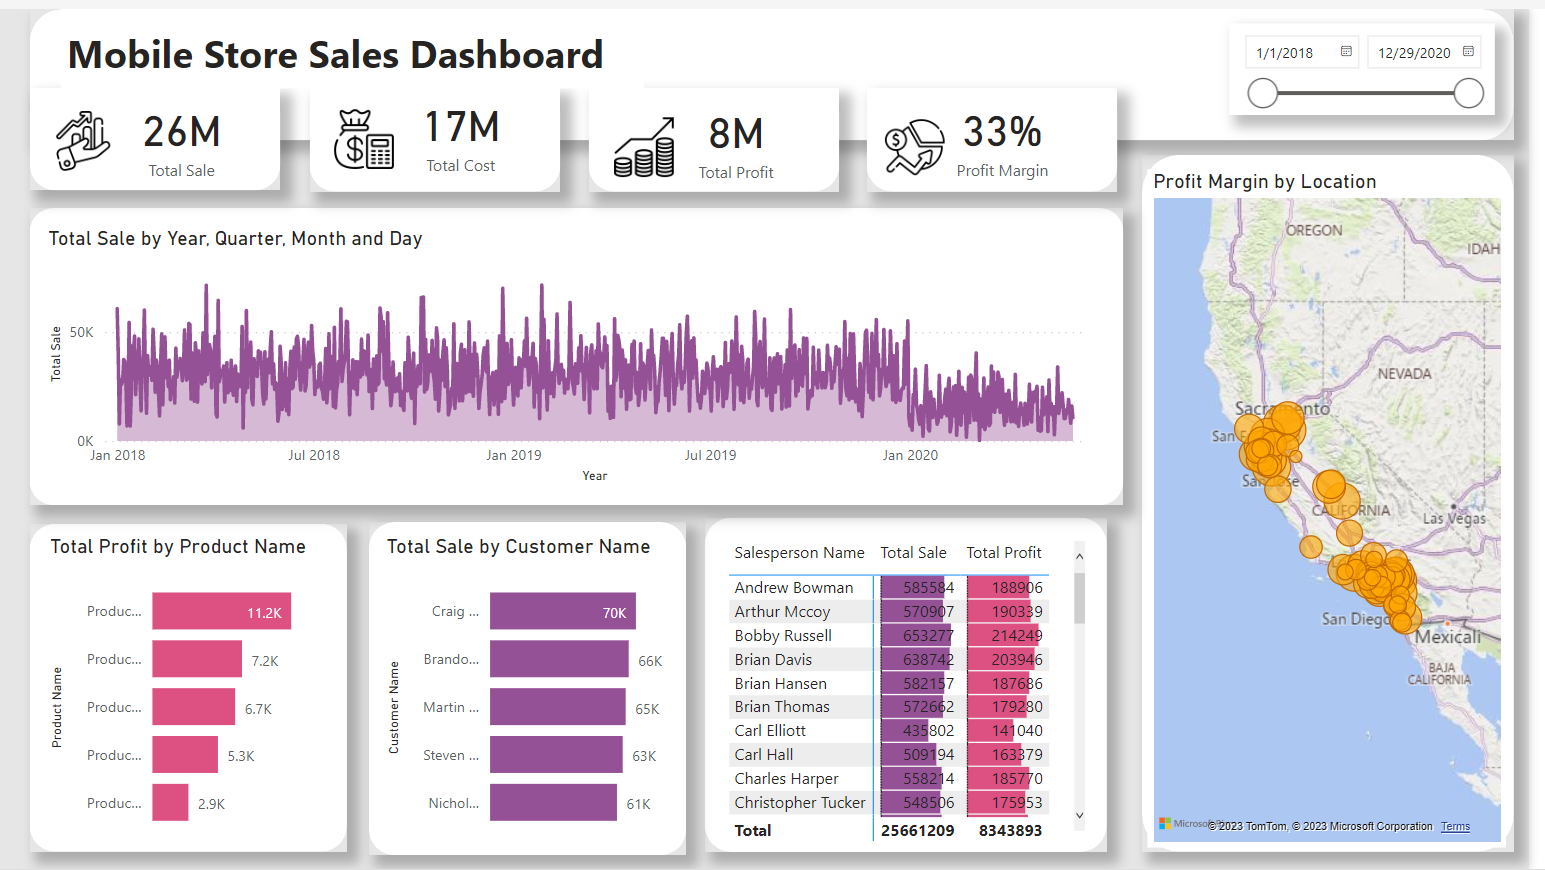

Layout of this report page (visuals, bound fields, positions):
{"tool":"powerbi","page":{"name":"Page 1","canvas":[1280,720],"ordinal":0},"visuals":[{"type":"shape","box":[25.3,0,1242.2,109.7],"z":0},{"type":"shape","box":[591,425.7,336.5,279.8],"z":1000},{"type":"shape","box":[25.3,430.6,265.3,275],"z":2000},{"type":"shape","box":[956.4,121.8,311.2,583.7],"z":3000},{"type":"shape","box":[25.7,166.2,915.6,249.4],"z":4000},{"type":"shape","box":[25.3,66.3,210,85.6],"z":5000},{"type":"shape","box":[259.6,65.9,210.1,86.5],"z":6000},{"type":"shape","box":[493.6,65.9,210.1,86.5],"z":7000},{"type":"shape","box":[726.5,65.9,210.1,86.5],"z":8000},{"type":"shape","box":[309.9,429.3,265.3,278.6],"z":9000},{"type":"card","fields":{"Values":["Key Measures.Total Sale"]},"box":[70,64.5,164.8,85.2],"z":10000},{"type":"card","fields":{"Values":["Key Measures.Total Cost"]},"box":[303.5,60.4,164.8,85.2],"z":11000},{"type":"card","fields":{"Values":["Key Measures.Total Profit"]},"box":[534.2,65.9,164.8,85.2],"z":12000},{"type":"card","fields":{"Values":["Key Measures.Profit Margin"]},"box":[756.7,64.5,164.8,85.2],"z":13000},{"type":"areaChart","fields":{"Category":["Dates.Date.Variation.Date Hierarchy.Year","Dates.Date.Variation.Date Hierarchy.Quarter","Dates.Date.Variation.Date Hierarchy.Month","Dates.Date.Variation.Date Hierarchy.Day"],"Y":["Key Measures.Total Sale"]},"box":[36.2,182.1,891.3,219.5],"z":14000},{"type":"clusteredBarChart","fields":{"Y":["Key Measures.Total Profit"],"Category":["Products.Product Name"]},"box":[37.4,440.2,241.2,261.7],"z":15000},{"type":"clusteredBarChart","fields":{"Category":["Customers.Customer Name"],"Y":["Key Measures.Total Sale"]},"box":[319.6,440.2,244.8,261.7],"z":16000},{"type":"pivotTable","fields":{"Rows":["Sales People.Salesperson Name"],"Values":["Key Measures.Total Sale","Key Measures.Total Profit"]},"box":[605.4,440.2,308.7,261.7],"z":17000},{"type":"map","title":"Profit Margin by Location","fields":{"Size":["Key Measures.Profit Margin"],"Y":["Locations.Latitude"],"X":["Locations.Longitude"]},"box":[961.2,133.9,300.3,568],"z":18000},{"type":"textbox","box":[51.9,9.6,487.2,56.7],"z":19000},{"type":"slicer","fields":{"Values":["Dates.Date"]},"box":[1029.9,12.1,221.9,77.2],"z":20000},{"type":"image","box":[736.1,85.2,60.4,60.4],"z":21000},{"type":"image","box":[509.5,85.2,60,60],"z":22000},{"type":"image","box":[274.7,78.3,60.4,60.4],"z":23000},{"type":"image","box":[39.8,79.7,60.4,60.4],"z":24000}]}

Visuals, with their boxes in screenshot pixels (x1, y1, x2, y2), scaled from the page's 1280x720 canvas onto the 1545x870 screenshot:
shape: crop(31, 0, 1530, 133)
shape: crop(713, 514, 1120, 852)
shape: crop(31, 520, 351, 853)
shape: crop(1154, 147, 1530, 852)
shape: crop(31, 201, 1136, 502)
shape: crop(31, 80, 284, 184)
shape: crop(313, 80, 567, 184)
shape: crop(596, 80, 849, 184)
shape: crop(877, 80, 1131, 184)
shape: crop(374, 519, 694, 855)
card - Key Measures.Total Sale: crop(84, 78, 283, 181)
card - Key Measures.Total Cost: crop(366, 73, 565, 176)
card - Key Measures.Total Profit: crop(645, 80, 844, 183)
card - Key Measures.Profit Margin: crop(913, 78, 1112, 181)
areaChart - Dates.Date.Variation.Date Hierarchy.Year x Dates.Date.Variation.Date Hierarchy.Quarter: crop(44, 220, 1120, 485)
clusteredBarChart - Key Measures.Total Profit x Products.Product Name: crop(45, 532, 336, 848)
clusteredBarChart - Customers.Customer Name x Key Measures.Total Sale: crop(386, 532, 681, 848)
pivotTable - Sales People.Salesperson Name x Key Measures.Total Sale: crop(731, 532, 1103, 848)
"Profit Margin by Location" map: crop(1160, 162, 1523, 848)
textbox: crop(63, 12, 651, 80)
slicer - Dates.Date: crop(1243, 15, 1511, 108)
image: crop(888, 103, 961, 176)
image: crop(615, 103, 687, 175)
image: crop(332, 95, 404, 168)
image: crop(48, 96, 121, 169)
